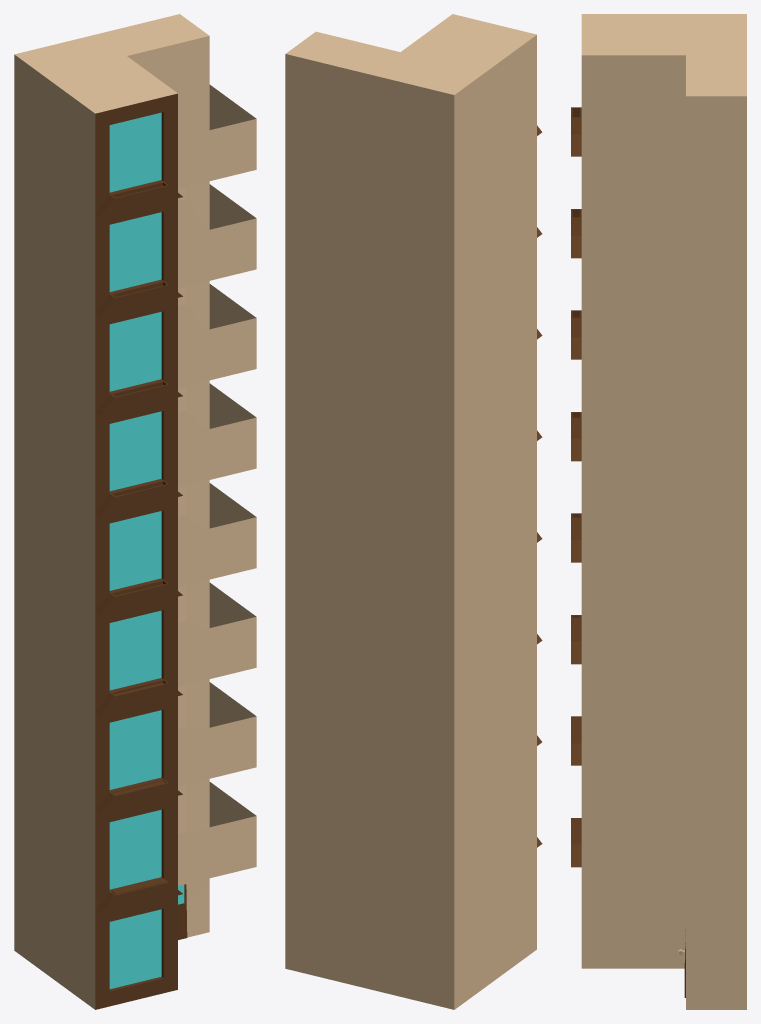
The model's file is Tower Tan.fbx.
3 views of the same model, side by side, from view 1: azimuth 30°, elevation 25°; view 2: azimuth 150°, elevation 25°; view 3: azimuth 270°, elevation 25° (orthographic). The views are drawn at different scales.
Parts seen in each view (by area): view 1: Cube.001; view 2: Cube.001; view 3: Cube.001.
Boxes of the visible parts, x1,y1,x2,y2 form: Cube.001: (14,14,256,1009); Cube.001: (285,14,542,1009); Cube.001: (571,14,746,1009).
Bounding box in the file's own units: 2037 × 10537 × 1839.
